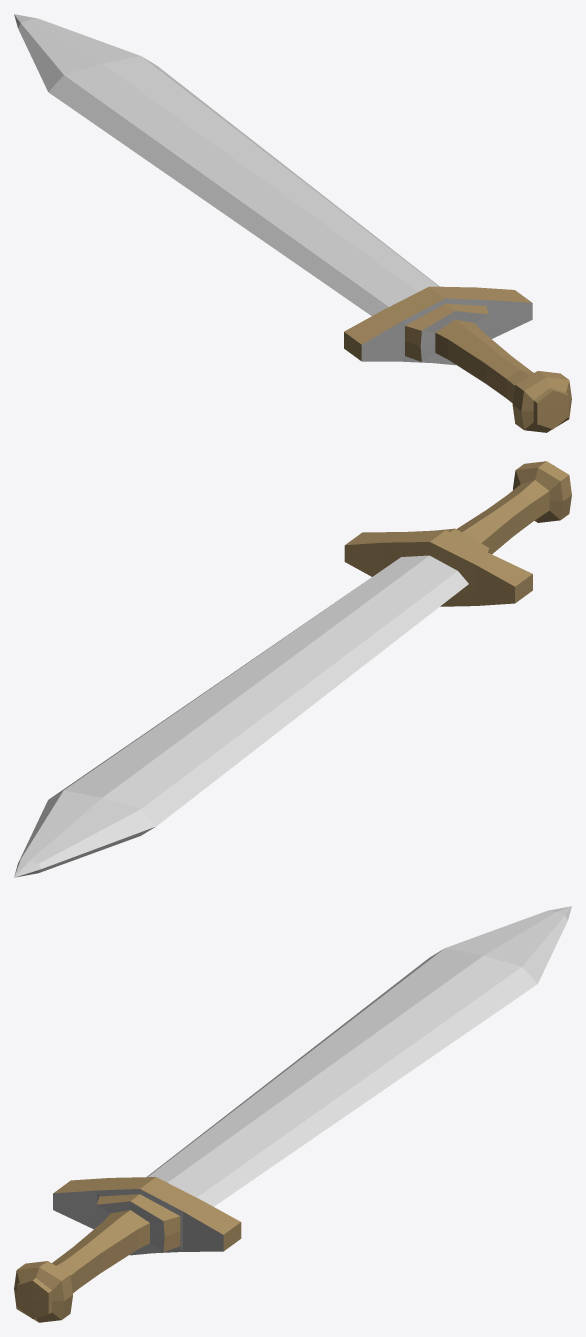
The model's file is Sword.fbx.
The picture shows the model from 3 angles, top to bottom: view 1: azimuth 30°, elevation 25°; view 2: azimuth 150°, elevation 25°; view 3: azimuth 330°, elevation 25°; orthographic projection.
Parts seen in each view (by area): view 1: Sword; view 2: Sword; view 3: Sword.
Part boxes in pixels (x1=…): Sword: x1=14, y1=14, x2=571, y2=432; Sword: x1=14, y1=461, x2=571, y2=877; Sword: x1=14, y1=906, x2=571, y2=1322.
Size of the model in its own units: 34.01 by 12.41 by 186.
